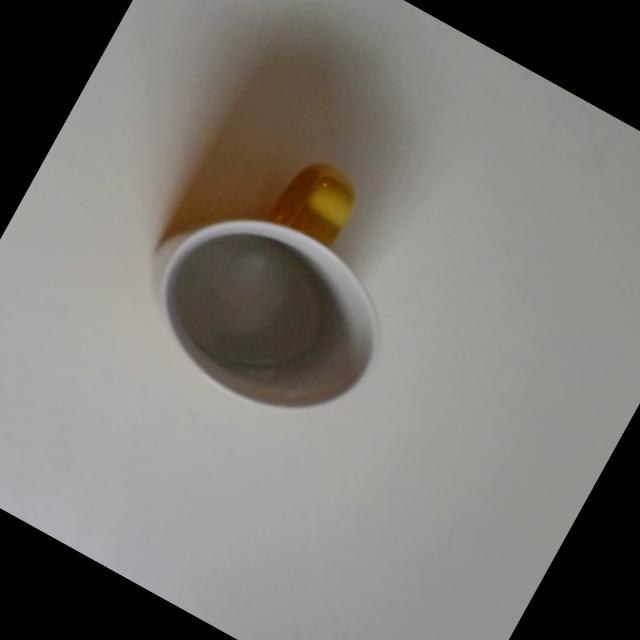Cocio Cup: (106, 166, 415, 447)
